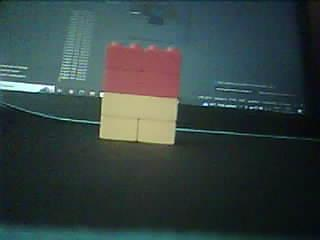lego: (98, 40, 183, 145)
